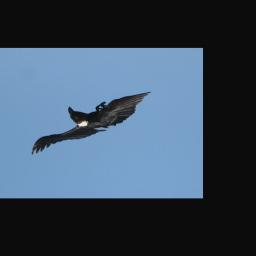Crow: (30, 91, 152, 156)
